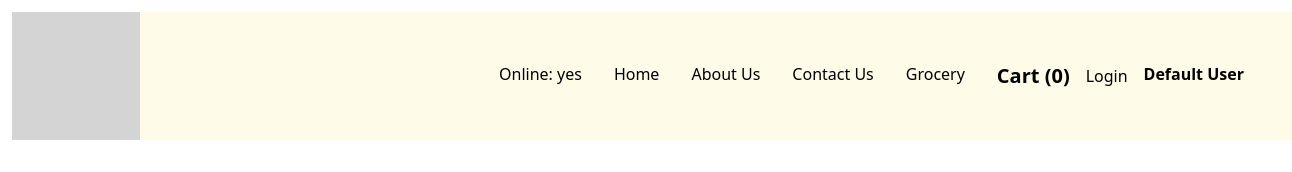
Test case: Should Change Login Button to Log Out on Click
Click the button "Login".
click(1107, 76)  # box [1086,62,1128,90]
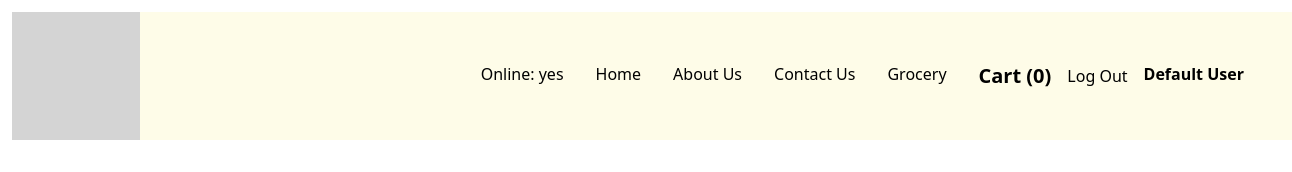
Now the button "Log Out" is shown, box [1067,62,1128,90]
